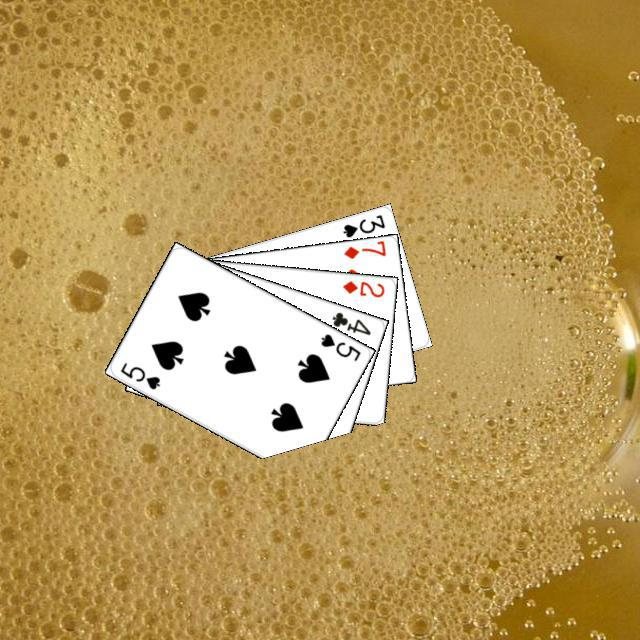2d: (338, 276, 386, 299)
3s: (338, 210, 387, 239)
4c: (327, 307, 372, 337)
5s: (115, 357, 162, 391), (316, 329, 362, 363)
7d: (339, 237, 388, 261)
